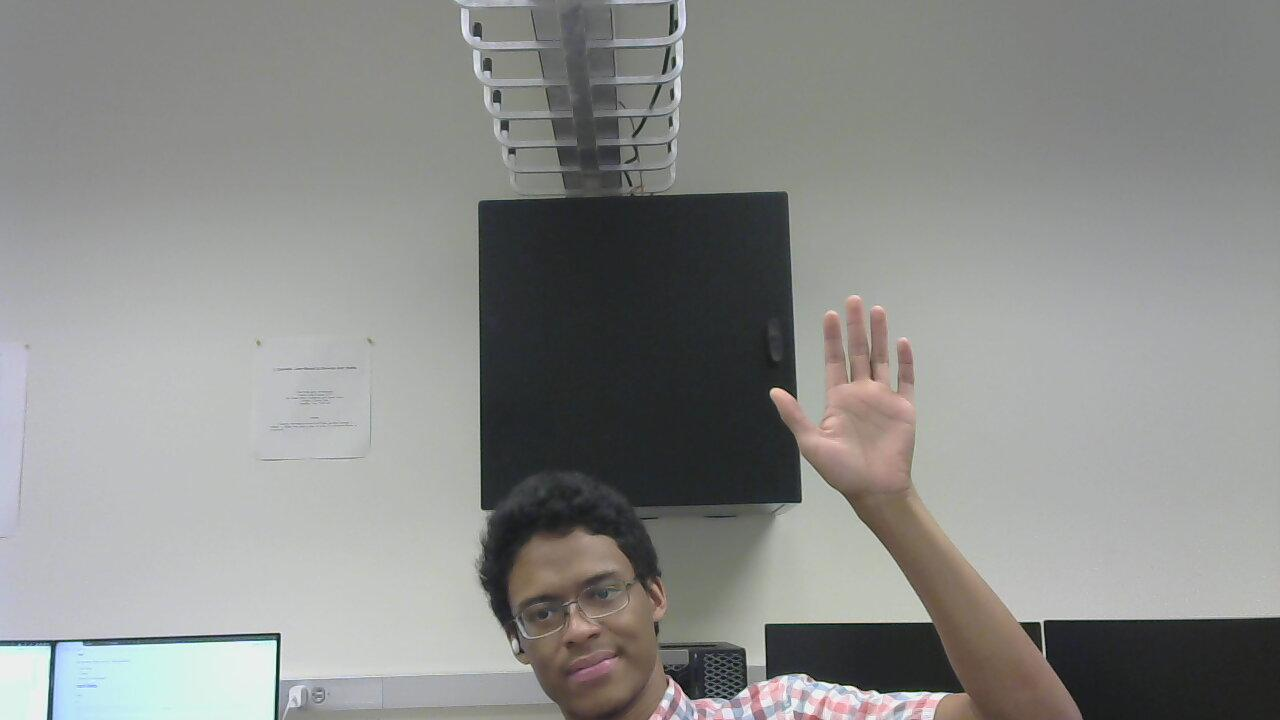hands: (771, 297, 939, 514)
